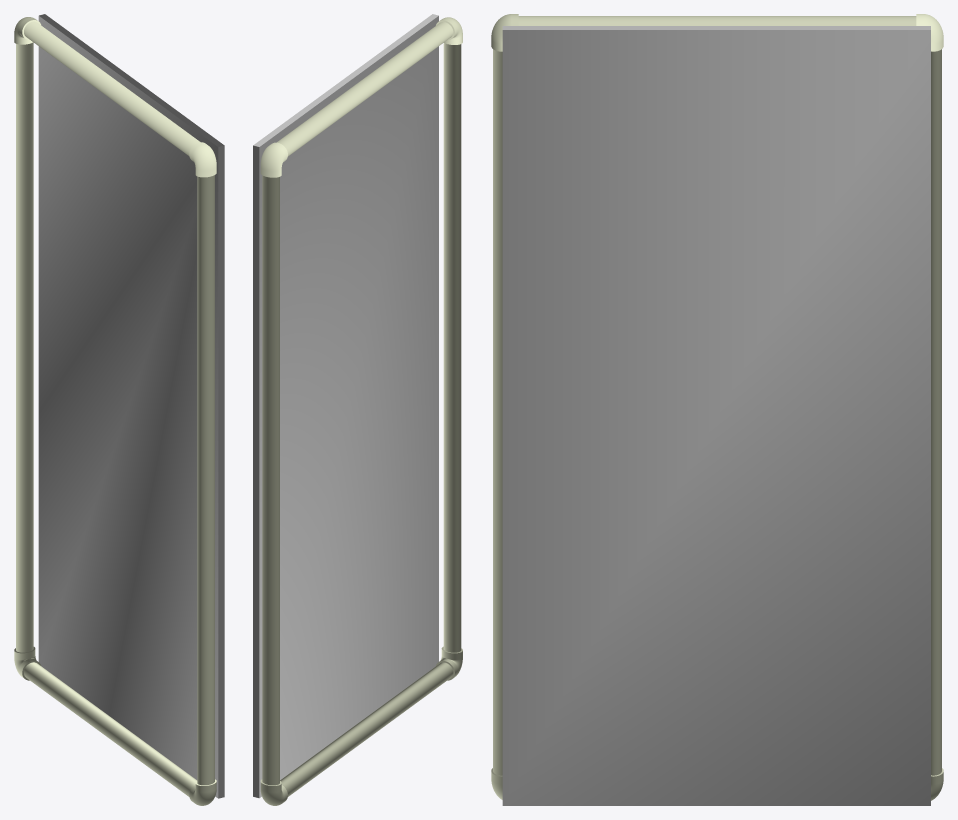
File: buoy_bootlegger.dae
The picture shows the model from 3 angles, left to right: view 1: azimuth 30°, elevation 25°; view 2: azimuth 150°, elevation 25°; view 3: azimuth 270°, elevation 25°; orthographic projection. The views are drawn at different scales.
Visible parts, largest first — view 1: canvas, vert_left, vert_right, horiz_top, horiz_bottom, top_right, bottom_right, bottom_left; view 2: canvas, vert_right, vert_left, horiz_top, horiz_bottom, top_left, bottom_left, bottom_right; view 3: canvas, vert_left, vert_right, horiz_top.
Part boxes in pixels (bbox=[...]): canvas: bbox=[38, 14, 224, 798]; vert_left: bbox=[16, 42, 33, 652]; vert_right: bbox=[197, 175, 214, 785]; horiz_top: bbox=[24, 21, 200, 155]; horiz_bottom: bbox=[24, 662, 197, 796]; top_right: bbox=[189, 142, 216, 177]; bottom_right: bbox=[189, 779, 216, 805]; bottom_left: bbox=[14, 647, 41, 680]; canvas: bbox=[253, 14, 438, 798]; vert_right: bbox=[443, 43, 461, 652]; vert_left: bbox=[262, 175, 279, 785]; horiz_top: bbox=[277, 22, 453, 156]; horiz_bottom: bbox=[280, 662, 453, 796]; top_left: bbox=[260, 142, 287, 177]; bottom_left: bbox=[260, 779, 287, 805]; bottom_right: bbox=[436, 646, 462, 680]; canvas: bbox=[502, 26, 930, 805]; vert_left: bbox=[931, 49, 941, 775]; vert_right: bbox=[493, 49, 502, 775]; horiz_top: bbox=[518, 16, 916, 25].
Size of the model in its own units: 0.0566 by 0.6441 by 1.24.
